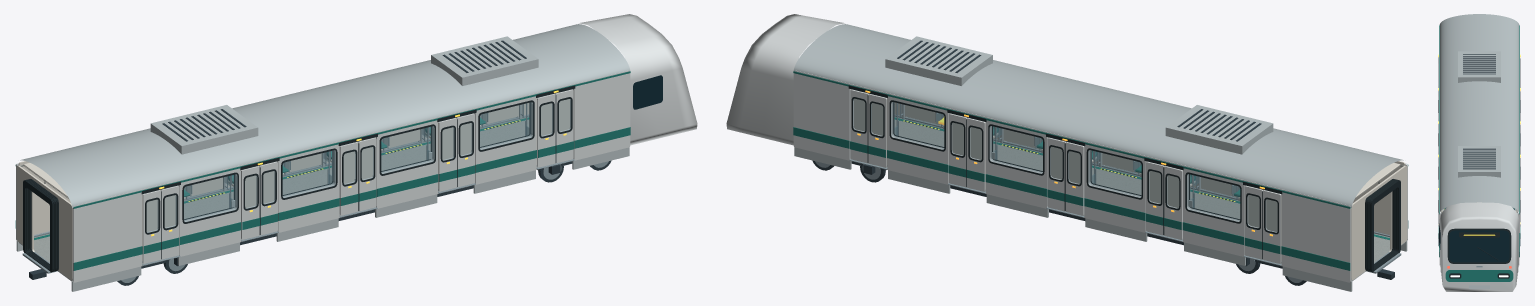
File: metro-head-car.glb
3 renders of one model, left to right at view 1: azimuth 30°, elevation 25°; view 2: azimuth 150°, elevation 25°; view 3: azimuth 270°, elevation 25°, orthographic. The views are drawn at different scales.
Parts seen in each view (by area): view 1: metro-head-car_metro.roof.satin, metro-head-car_metro.shell.silver, metro-head-car_metro.interior.ivory, metro-head-car_metro.glass.window, metro-head-car_metro.line.jade, metro-head-car_metro.rubber.graphite, metro-head-car_metro.floor.speckle, metro-head-car_metro.chassis.dark, metro-head-car_metro.steel.brushed, door_right_0_a_metro.shell.silver, metro-head-car_metro.glass.cab, door_right_2_a_metro.shell.silver (+8 smaller); view 2: metro-head-car_metro.roof.satin, metro-head-car_metro.shell.silver, metro-head-car_metro.interior.ivory, metro-head-car_metro.glass.window, metro-head-car_metro.line.jade, metro-head-car_metro.rubber.graphite, metro-head-car_metro.floor.speckle, metro-head-car_metro.chassis.dark, metro-head-car_metro.steel.brushed, door_left_0_a_metro.shell.silver, door_left_2_a_metro.shell.silver, door_left_1_a_metro.shell.silver (+7 smaller); view 3: metro-head-car_metro.roof.satin, metro-head-car_metro.shell.silver, metro-head-car_metro.glass.cab, metro-head-car_metro.chassis.dark, metro-head-car_metro.line.jade, metro-head-car_metro.rubber.graphite, metro-head-car_metro.steel.brushed, metro-head-car_metro.light.amber.
Boxes of the visible parts, left/top/right/bottom form: metro-head-car_metro.roof.satin: left=16, top=24, right=630, bottom=291; metro-head-car_metro.shell.silver: left=16, top=14, right=697, bottom=282; metro-head-car_metro.interior.ivory: left=16, top=89, right=572, bottom=280; metro-head-car_metro.glass.window: left=184, top=102, right=532, bottom=221; metro-head-car_metro.line.jade: left=15, top=71, right=630, bottom=270; metro-head-car_metro.rubber.graphite: left=23, top=85, right=575, bottom=272; metro-head-car_metro.floor.speckle: left=34, top=116, right=529, bottom=262; metro-head-car_metro.chassis.dark: left=29, top=40, right=611, bottom=285; metro-head-car_metro.steel.brushed: left=22, top=103, right=608, bottom=282; door_right_0_a_metro.shell.silver: left=142, top=190, right=161, bottom=263; metro-head-car_metro.glass.cab: left=633, top=75, right=662, bottom=109; door_right_2_a_metro.shell.silver: left=339, top=142, right=358, bottom=215; metro-head-car_metro.roof.satin: left=793, top=24, right=1407, bottom=291; metro-head-car_metro.shell.silver: left=726, top=14, right=1407, bottom=282; metro-head-car_metro.interior.ivory: left=851, top=89, right=1407, bottom=280; metro-head-car_metro.glass.window: left=891, top=102, right=1239, bottom=221; metro-head-car_metro.line.jade: left=793, top=71, right=1408, bottom=270; metro-head-car_metro.rubber.graphite: left=848, top=85, right=1400, bottom=272; metro-head-car_metro.floor.speckle: left=894, top=116, right=1389, bottom=262; metro-head-car_metro.chassis.dark: left=812, top=40, right=1394, bottom=285; metro-head-car_metro.steel.brushed: left=815, top=102, right=1401, bottom=282; door_left_0_a_metro.shell.silver: left=1262, top=190, right=1281, bottom=263; door_left_2_a_metro.shell.silver: left=1065, top=142, right=1084, bottom=215; door_left_1_a_metro.shell.silver: left=1164, top=166, right=1182, bottom=239; metro-head-car_metro.roof.satin: left=1439, top=14, right=1519, bottom=289; metro-head-car_metro.shell.silver: left=1439, top=25, right=1519, bottom=291; metro-head-car_metro.glass.cab: left=1439, top=223, right=1509, bottom=262; metro-head-car_metro.chassis.dark: left=1463, top=54, right=1495, bottom=169; metro-head-car_metro.line.jade: left=1439, top=25, right=1519, bottom=281; metro-head-car_metro.rubber.graphite: left=1438, top=66, right=1511, bottom=278; metro-head-car_metro.steel.brushed: left=1438, top=100, right=1520, bottom=267; metro-head-car_metro.light.amber: left=1438, top=54, right=1520, bottom=235.
Bounding box in the file's own units: 23.12 × 4.42 × 3.71.
16 materials, 1 textured.
